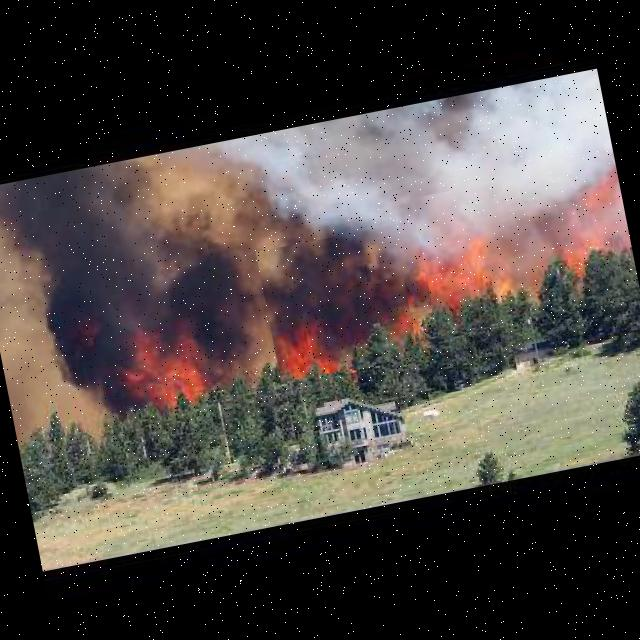fire: (0, 140, 260, 444), (412, 159, 640, 337), (256, 225, 418, 382)
